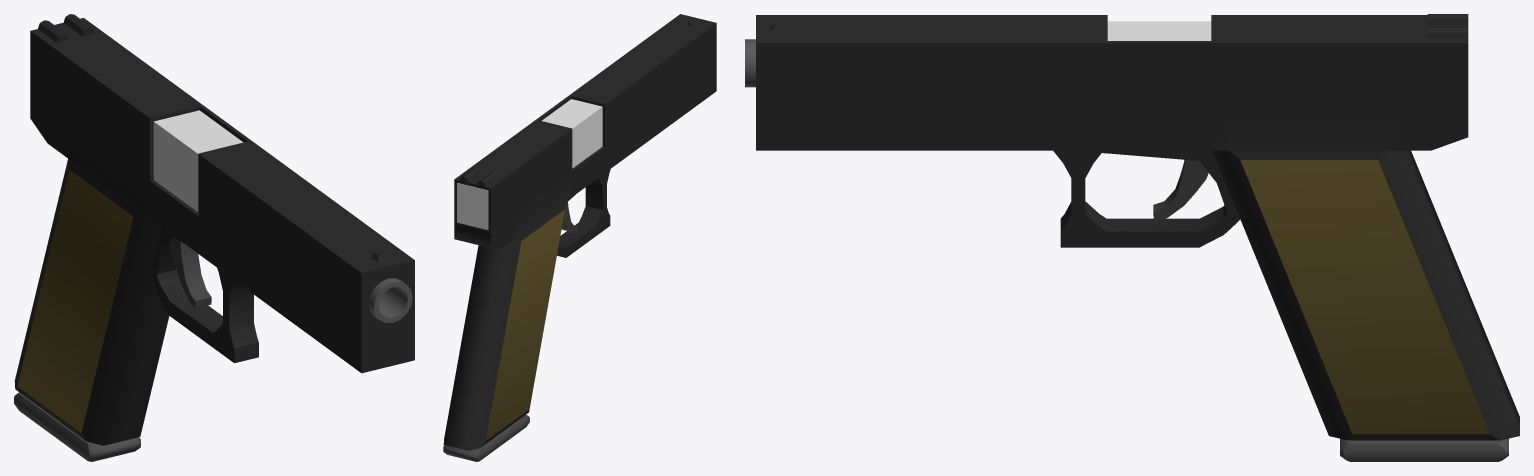
The model's file is glock18.fbx.
3 views of the same model, side by side, from view 1: azimuth 30°, elevation 25°; view 2: azimuth 150°, elevation 25°; view 3: azimuth 270°, elevation 25° (orthographic). The views are drawn at different scales.
Parts seen in each view (by area): view 1: Grip, Slide, TriggerGuard, UnderBarrel, Magazine, Trigger, Barrel; view 2: Grip, Slide, UnderBarrel, TriggerGuard, Magazine; view 3: Grip, Slide, TriggerGuard, Magazine, UnderBarrel, Trigger.
Part boxes in pixels (<box>): Grip: <box>14,93,414,445</box>; Slide: <box>30,14,414,335</box>; TriggerGuard: <box>150,227,258,363</box>; UnderBarrel: <box>153,110,243,211</box>; Magazine: <box>14,392,140,461</box>; Trigger: <box>169,237,211,308</box>; Barrel: <box>369,278,412,322</box>; Grip: <box>443,66,716,450</box>; Slide: <box>454,14,716,230</box>; UnderBarrel: <box>457,99,602,229</box>; TriggerGuard: <box>557,169,610,257</box>; Magazine: <box>443,414,529,461</box>; Grip: <box>756,110,1519,440</box>; Slide: <box>756,14,1468,110</box>; TriggerGuard: <box>1053,150,1240,247</box>; Magazine: <box>1340,438,1508,461</box>; UnderBarrel: <box>1107,21,1211,40</box>; Trigger: <box>1153,159,1208,221</box>.
Bounding box in the file's own units: 14.23 × 91.53 × 150.
